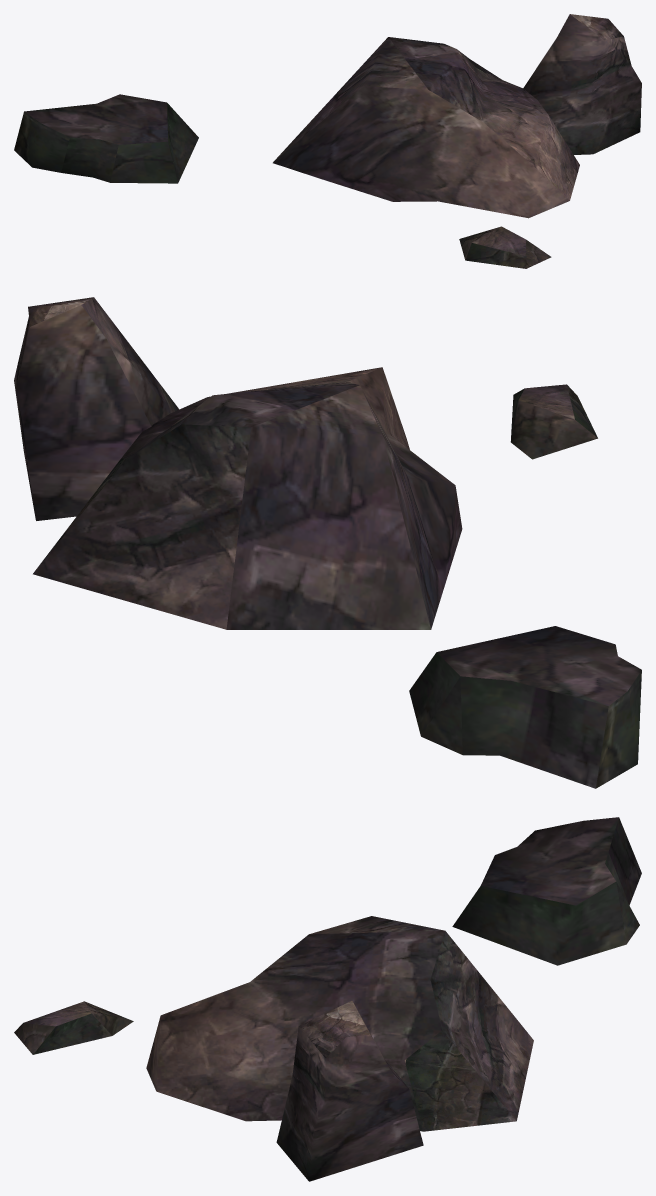
File: S_Rock_Black077.FBX
The picture shows the model from 3 angles, top to bottom: view 1: azimuth 30°, elevation 25°; view 2: azimuth 150°, elevation 25°; view 3: azimuth 270°, elevation 25°; orthographic projection. The views are drawn at different scales.
Parts seen in each view (by area): view 1: S_Rock_Black077; view 2: S_Rock_Black077; view 3: S_Rock_Black077.
Part boxes in pixels (x1,y1,x2,y2): S_Rock_Black077: (14, 14, 641, 268); S_Rock_Black077: (14, 297, 641, 788); S_Rock_Black077: (14, 817, 641, 1181).
Bounding box in the file's own units: 336 × 291 × 75.96.
